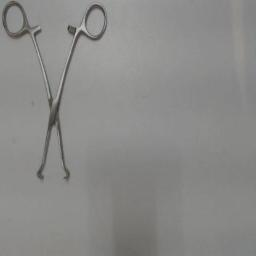Babcock Tissue Forceps: (0, 1, 108, 183)
